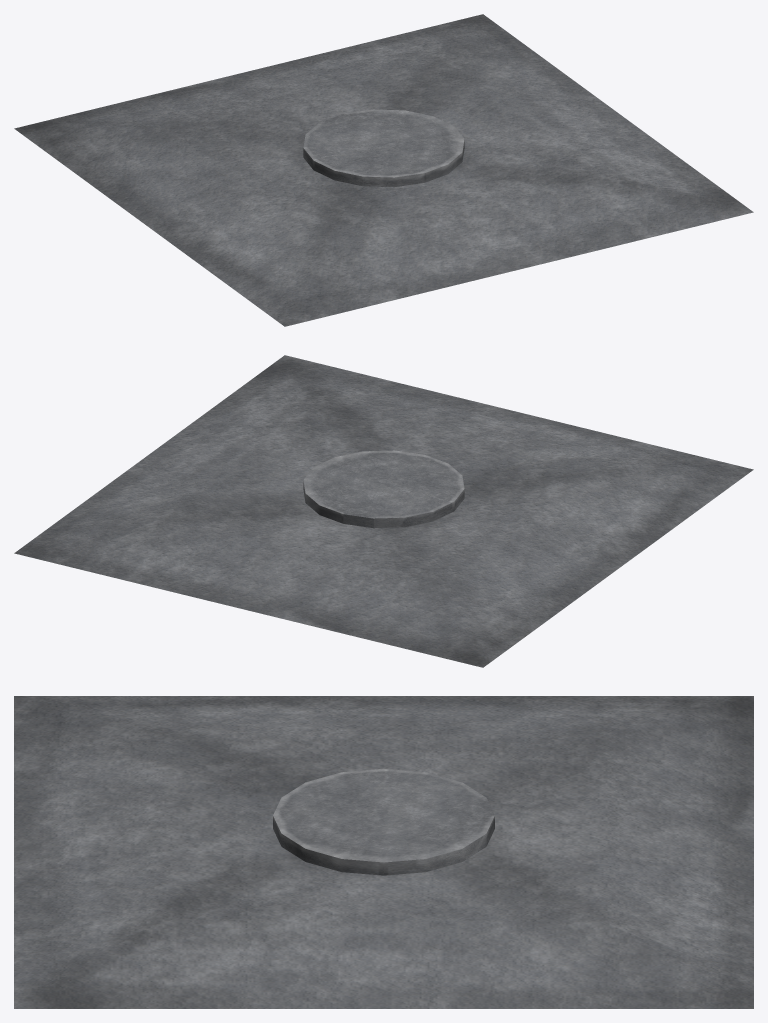
The model's file is Pedestal.glb.
3 renders of one model, top to bottom at view 1: azimuth 30°, elevation 25°; view 2: azimuth 150°, elevation 25°; view 3: azimuth 270°, elevation 25°, orthographic. The views are drawn at different scales.
Visible parts, largest first — view 1: Plane; view 2: Plane; view 3: Plane.
Boxes of the visible parts, <box> form: Plane: <box>14,14,753,326</box>; Plane: <box>14,355,753,667</box>; Plane: <box>14,696,753,1008</box>.
Size of the model in its own units: 2 by 0.11 by 2.
1 material, 1 textured.
